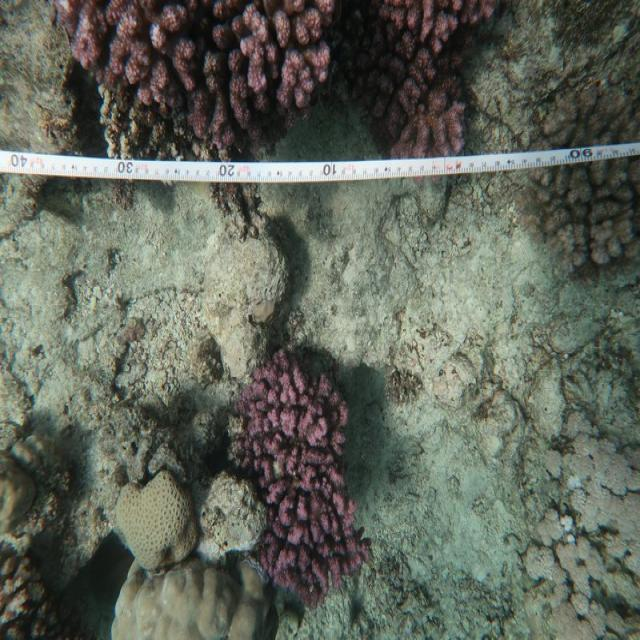Healthy Coral: (77, 0, 348, 174), (234, 349, 370, 588), (371, 0, 474, 154)
